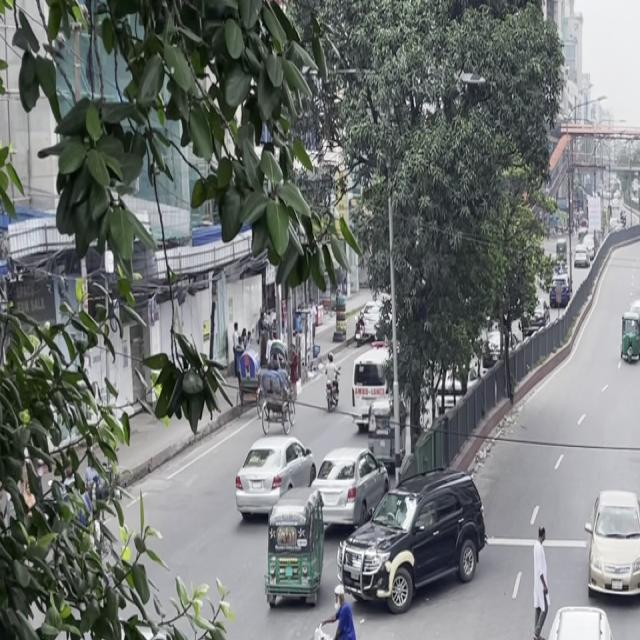bicycle: (294, 583, 385, 640)
car: (335, 467, 489, 618), (229, 428, 318, 531), (580, 477, 640, 615), (305, 439, 384, 536), (511, 601, 637, 640)
rickshaw: (260, 492, 328, 609)
